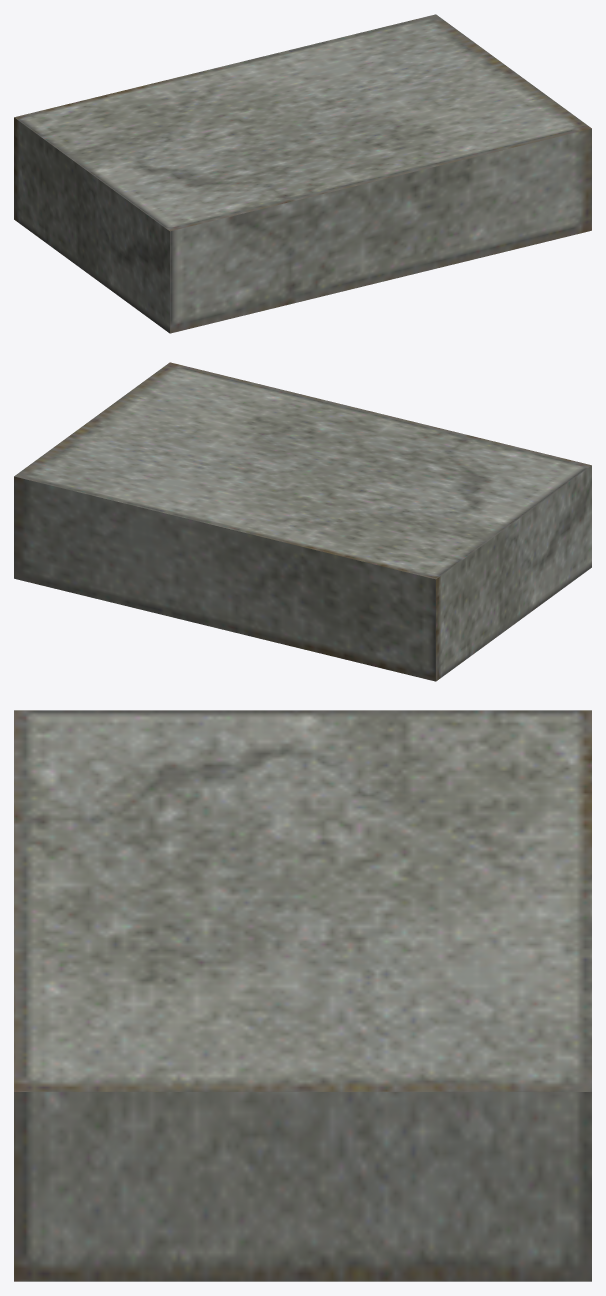
Rendered from plinth_base_b.fbx.
3 views of the same model, one above another, from view 1: azimuth 30°, elevation 25°; view 2: azimuth 150°, elevation 25°; view 3: azimuth 270°, elevation 25° (orthographic). The views are drawn at different scales.
Parts seen in each view (by area): view 1: plinth_base_b; view 2: plinth_base_b; view 3: plinth_base_b.
Part boxes in pixels (box(x1,y1,x2,y2)): plinth_base_b: box(14, 14, 591, 333); plinth_base_b: box(14, 362, 591, 681); plinth_base_b: box(14, 710, 591, 1281).
Bounding box in the file's own units: 43.2 × 10 × 27.65.
